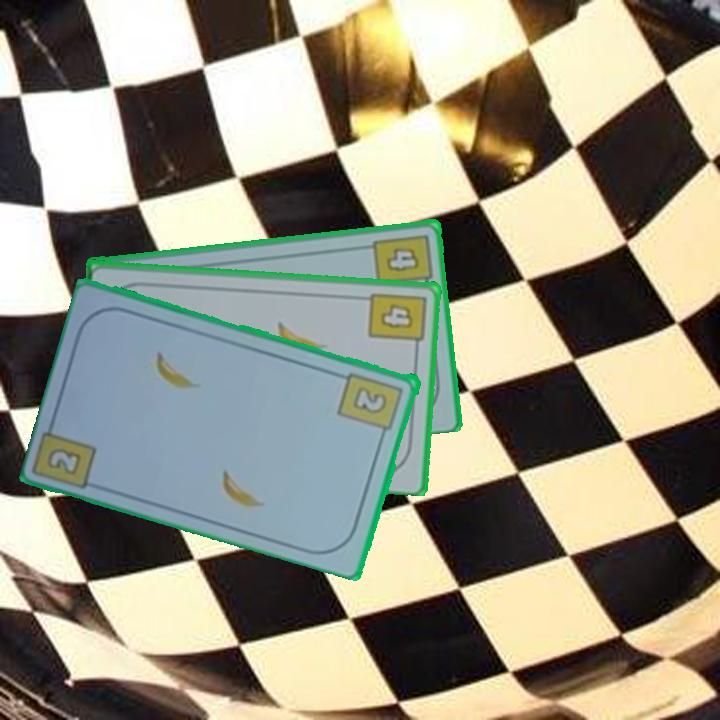2b: (335, 368, 406, 442), (43, 444, 85, 478)
4b: (369, 230, 435, 293), (365, 289, 428, 354)
